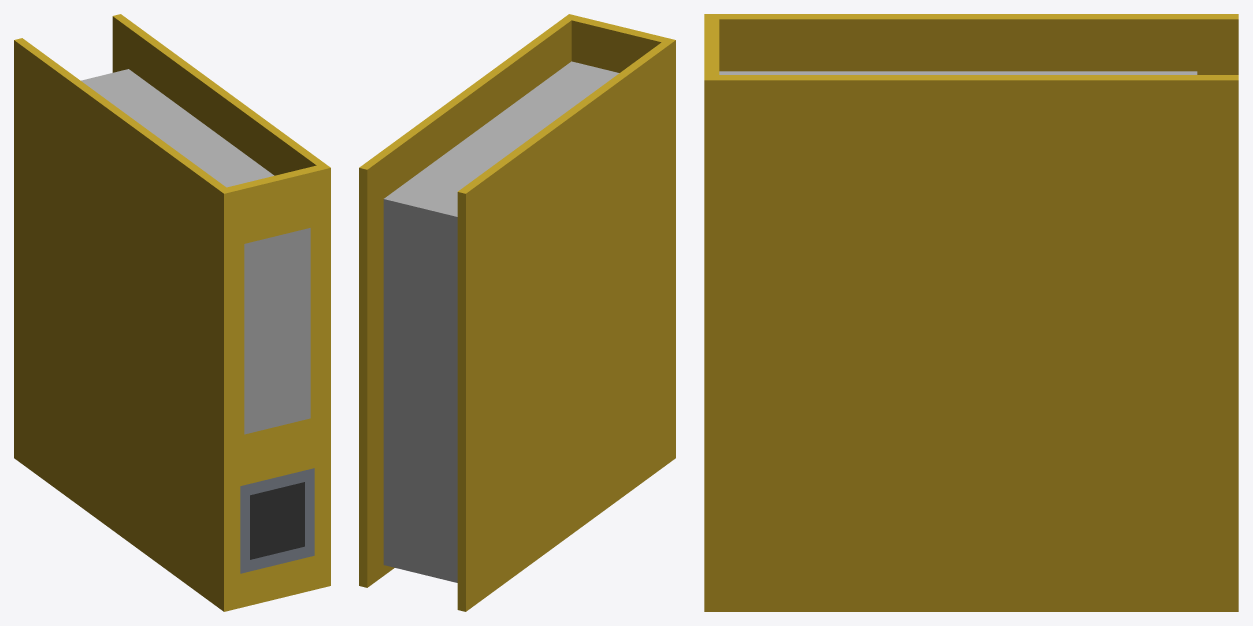
The model's file is SO_Boxfile_06.fbx.
3 views of the same model, side by side, from view 1: azimuth 30°, elevation 25°; view 2: azimuth 150°, elevation 25°; view 3: azimuth 270°, elevation 25° (orthographic). The views are drawn at different scales.
Parts seen in each view (by area): view 1: SO_Boxfile_06; view 2: SO_Boxfile_06; view 3: SO_Boxfile_06.
Boxes of the visible parts, box(x1,y1,x2,y2) form: SO_Boxfile_06: box(14, 14, 330, 611); SO_Boxfile_06: box(359, 14, 675, 611); SO_Boxfile_06: box(704, 14, 1238, 611).
Size of the model in its own units: 0.1745 by 0.6529 by 0.5946.
